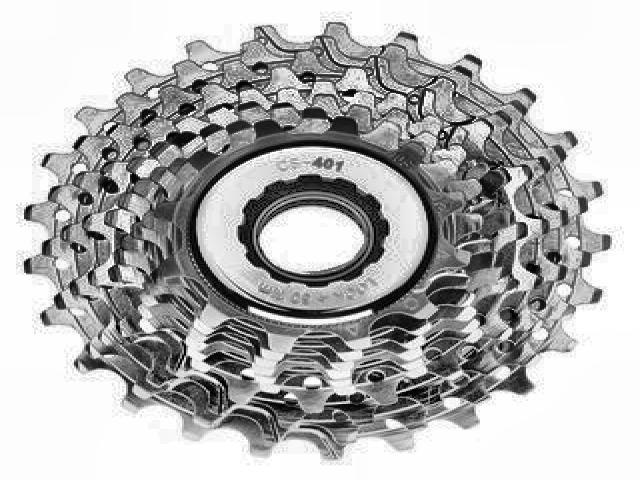cassette: (23, 22, 607, 458)
